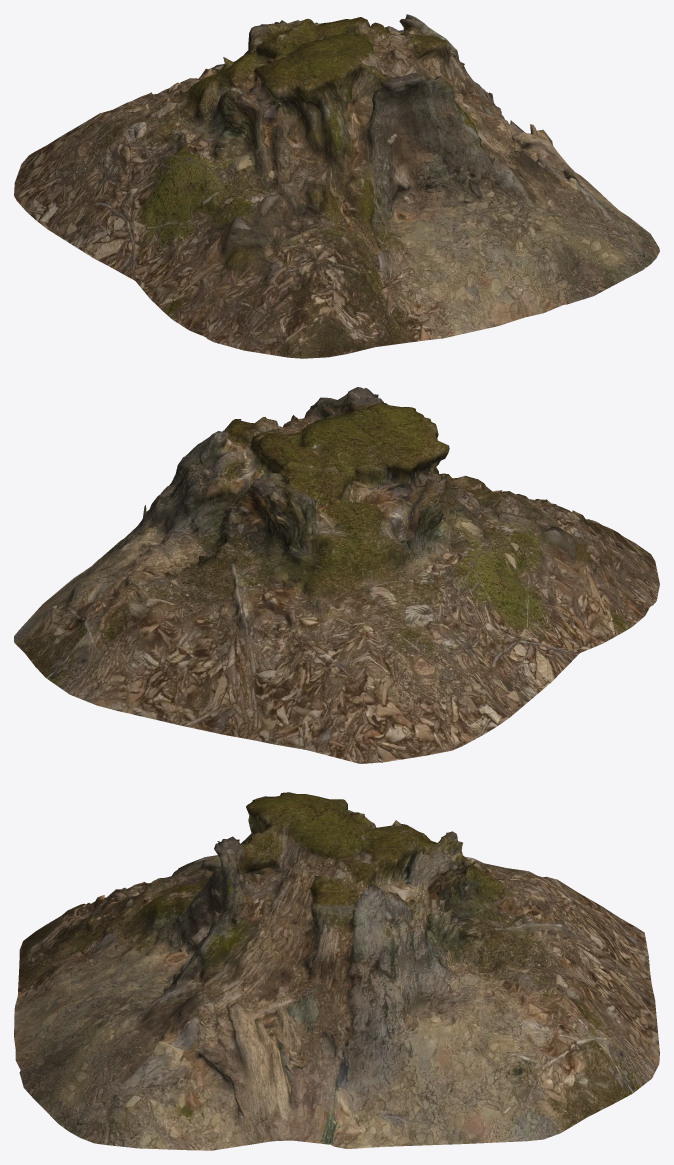
The model's file is tree_stump_01.glb.
The picture shows the model from 3 angles, top to bottom: view 1: azimuth 30°, elevation 25°; view 2: azimuth 150°, elevation 25°; view 3: azimuth 270°, elevation 25°; orthographic projection. The views are drawn at different scales.
Visible parts, largest first — view 1: tree_stump_01; view 2: tree_stump_01; view 3: tree_stump_01.
Boxes of the visible parts, left/top/right/bottom form: tree_stump_01: left=14, top=14, right=659, bottom=358; tree_stump_01: left=14, top=387, right=659, bottom=763; tree_stump_01: left=14, top=792, right=659, bottom=1150.
Size of the model in its own units: 1.43 by 0.5725 by 1.59.
1 material, 1 textured.
